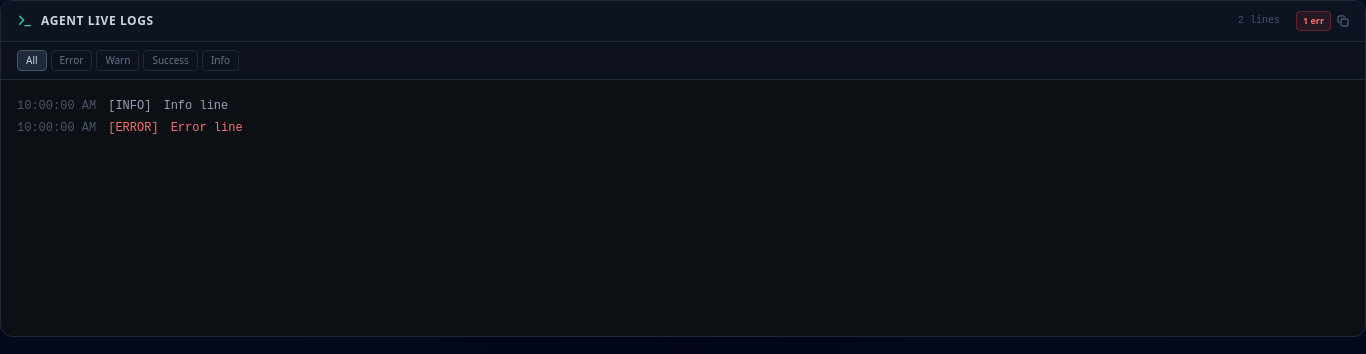
Test case: AgentLogsPanel — level filter › shows all logs when all pill clicked after filtering
This screenshot has width=1366, height=354.
Step 1. Click the button "error" → (72, 60), box [51,50,92,70]
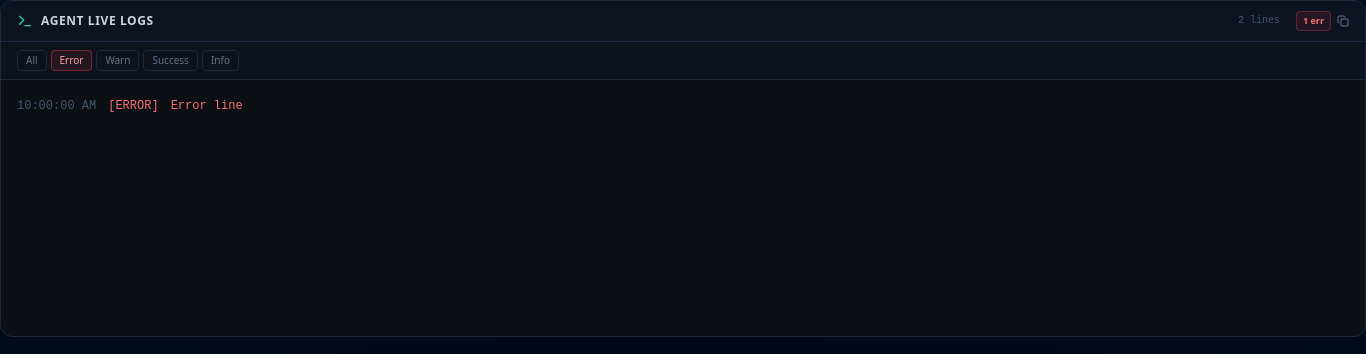
Step 2. Click the button "all" → (32, 60), box [17,50,47,70]
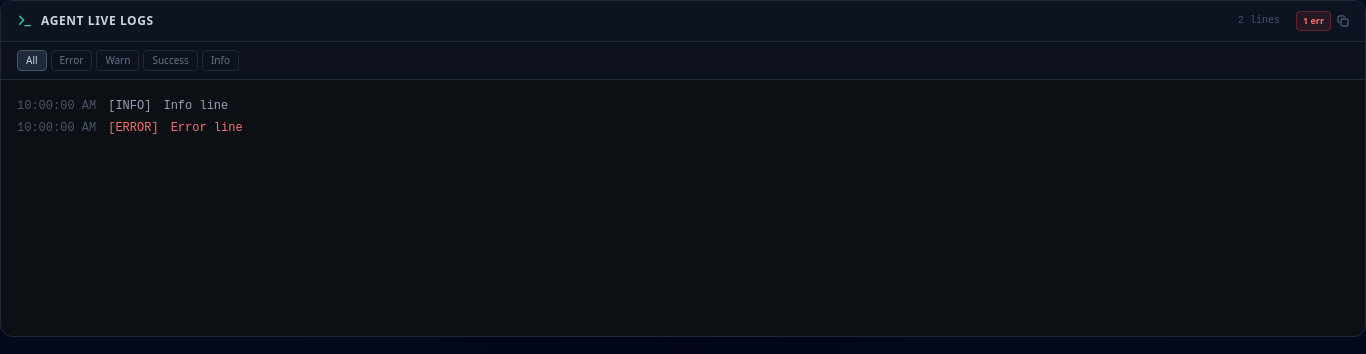
Check: the text "Error line" is shown, box [171,118,243,138]
Check: the text "Info line" is shown, box [163,96,228,116]
